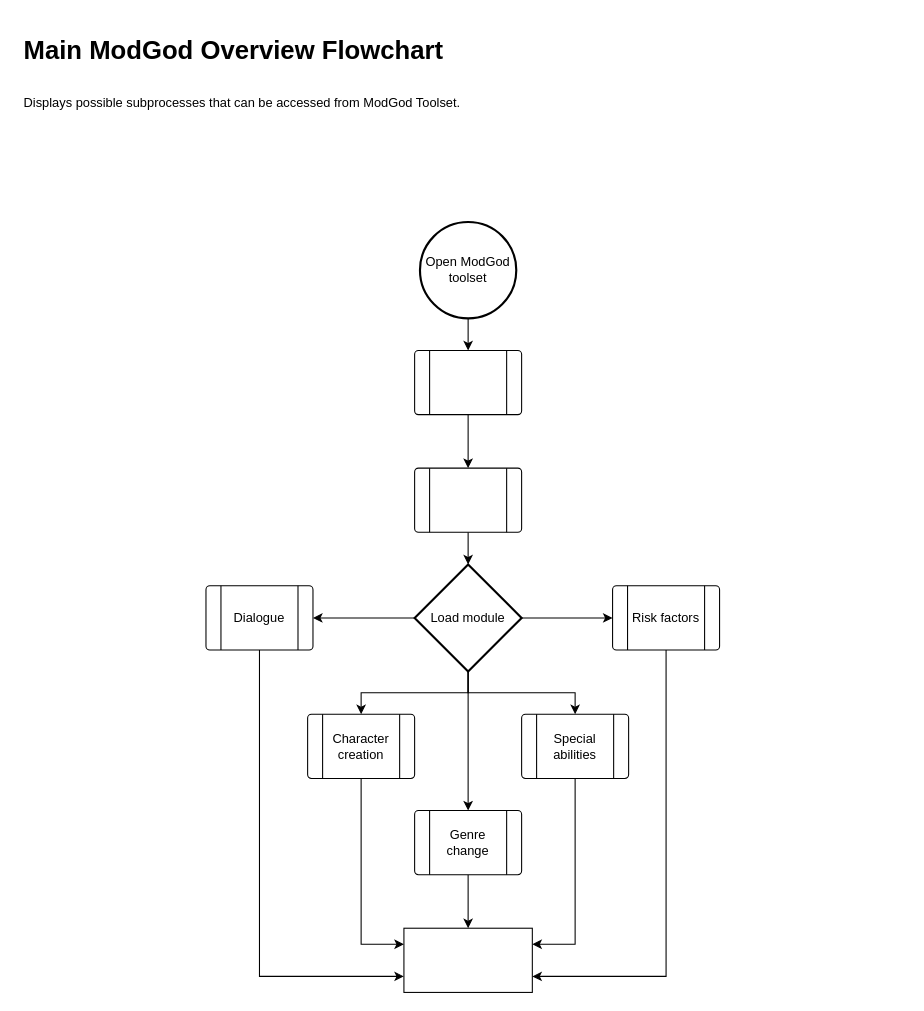
Image size: 924x1011. Some labels were removed from this diagram. Each missing label, with the centre of its shape:
Main gameplay: the point at 467,959
ModGod toolest subprocess: the point at 468,382
Scene selection subprocess: the point at 468,499
